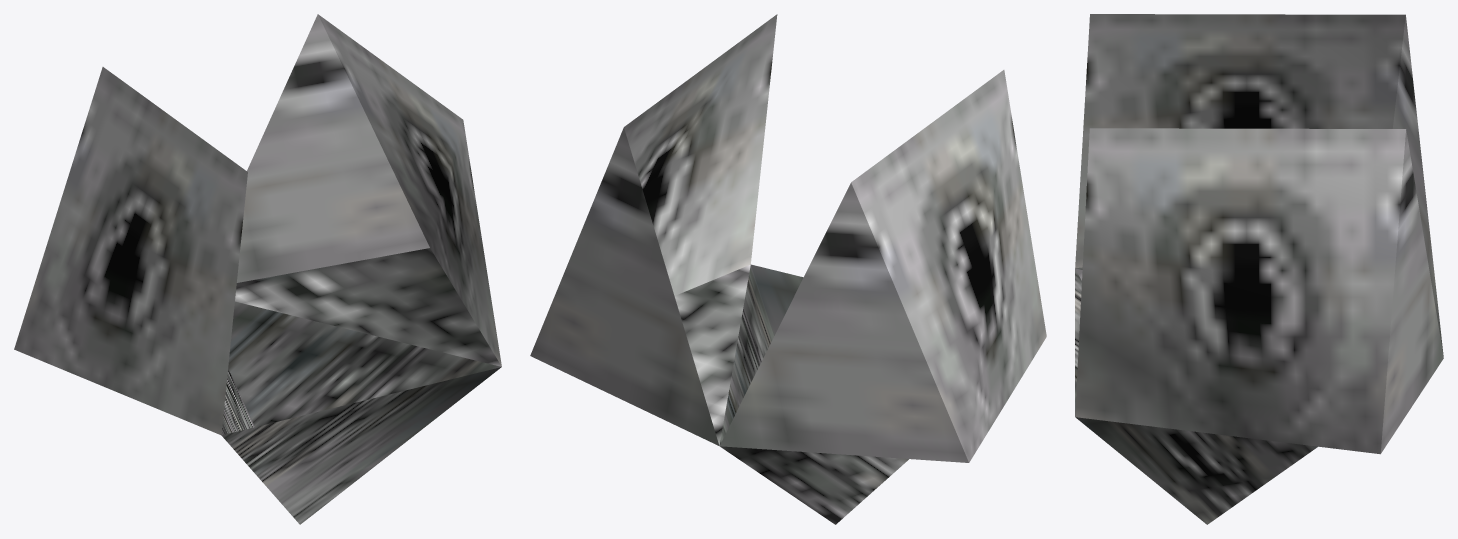
File: star_destroyer_med_turret_base_l3.fbx
The picture shows the model from 3 angles, left to right: view 1: azimuth 30°, elevation 25°; view 2: azimuth 150°, elevation 25°; view 3: azimuth 270°, elevation 25°; orthographic projection. The views are drawn at different scales.
Visible parts, largest first — view 1: mesh_node; view 2: mesh_node; view 3: mesh_node.
Part boxes in pixels (x1,y1,x2,y2): mesh_node: [14, 14, 501, 524]; mesh_node: [530, 14, 1046, 524]; mesh_node: [1075, 14, 1443, 524].
Size of the model in its own units: 10.78 by 10.35 by 7.61.
Materials: 1 (1 with a texture image).
